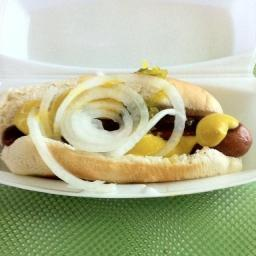hotdog: (163, 108, 256, 161), (1, 118, 26, 144)
